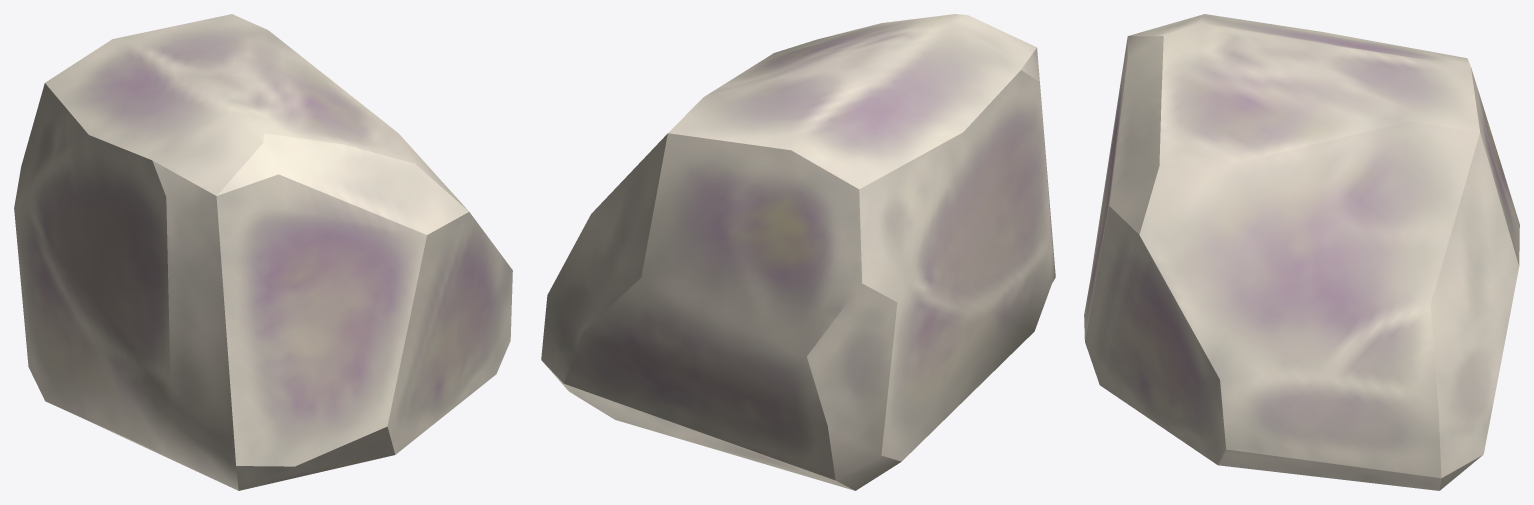
File: rock_small.glb
3 renders of one model, left to right at view 1: azimuth 30°, elevation 25°; view 2: azimuth 150°, elevation 25°; view 3: azimuth 270°, elevation 25°, orthographic. The views are drawn at different scales.
Parts seen in each view (by area): view 1: r12_low_fh_rocks_0; view 2: r12_low_fh_rocks_0; view 3: r12_low_fh_rocks_0.
Part boxes in pixels (x1,y1,x2,y2): r12_low_fh_rocks_0: (14, 14, 512, 490); r12_low_fh_rocks_0: (541, 14, 1055, 490); r12_low_fh_rocks_0: (1084, 14, 1519, 490).
Bounding box in the file's own units: 8.28 × 7.8 × 8.48.
Materials: 1 (1 with a texture image).
